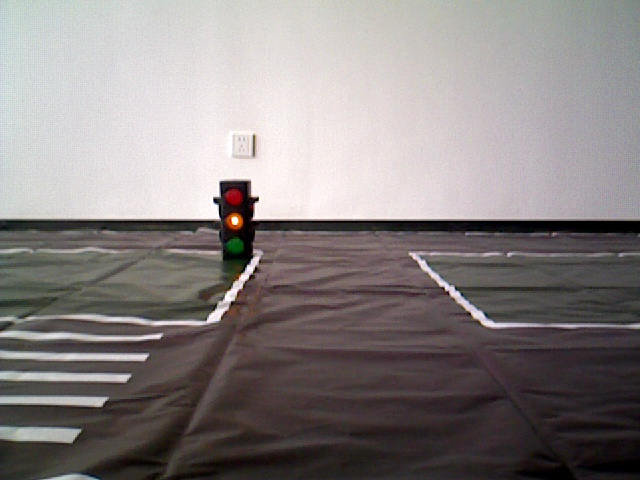yellow: (217, 178, 252, 260)
